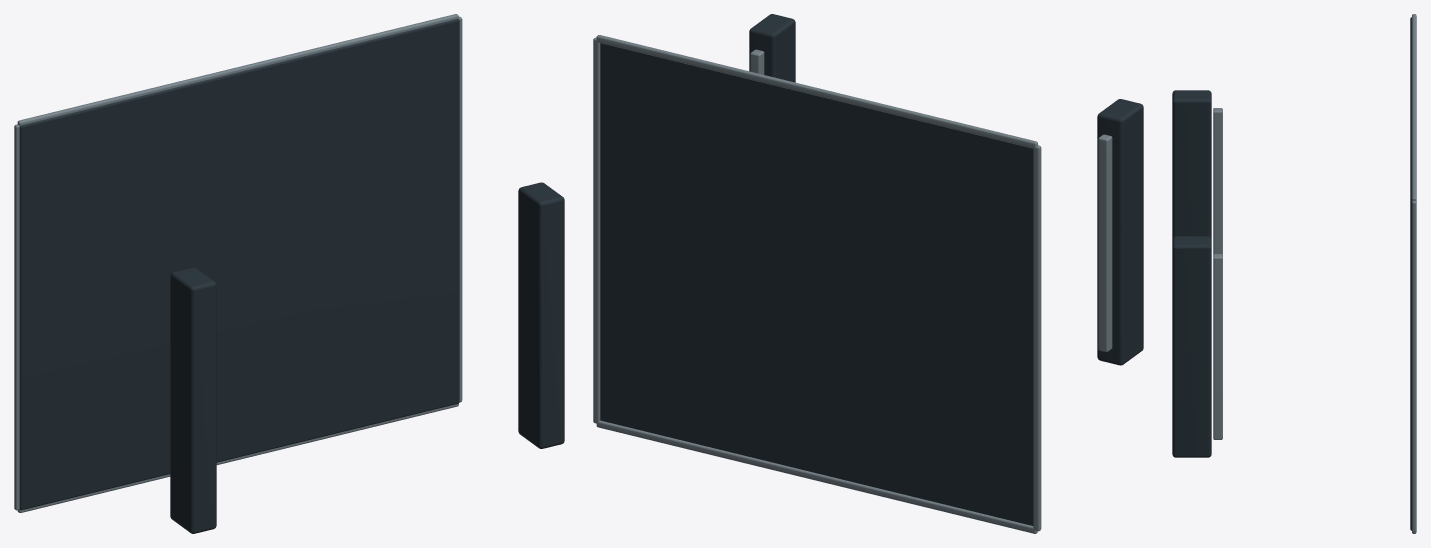
The model's file is SM_Dock_Material_Mount.fbx.
The picture shows the model from 3 angles, left to right: view 1: azimuth 30°, elevation 25°; view 2: azimuth 150°, elevation 25°; view 3: azimuth 270°, elevation 25°; orthographic projection. The views are drawn at different scales.
Visible parts, largest first — view 1: SM_Dock_Material_Mount; view 2: SM_Dock_Material_Mount; view 3: SM_Dock_Material_Mount.
Boxes of the visible parts, x1,y1,x2,y2 form: SM_Dock_Material_Mount: (14,14,564,533); SM_Dock_Material_Mount: (593,14,1143,533); SM_Dock_Material_Mount: (1172,14,1416,533).
Bounding box in the file's own units: 136 × 74.9 × 114.
